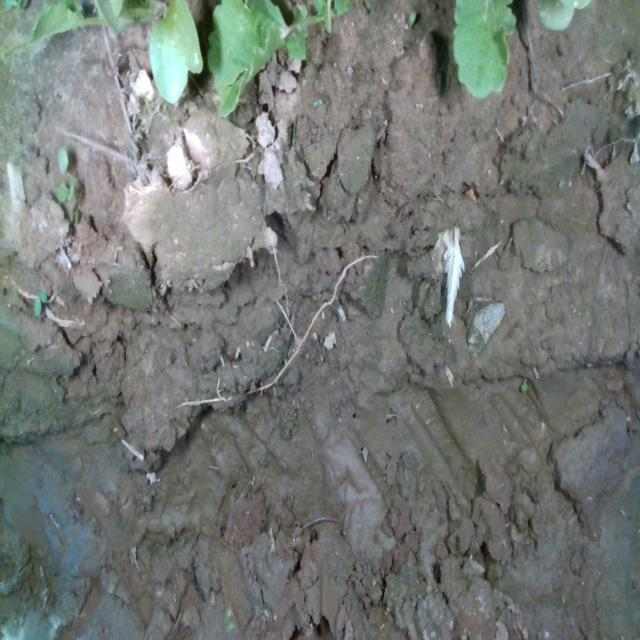weed: (32, 284, 48, 316), (413, 100, 423, 108)
